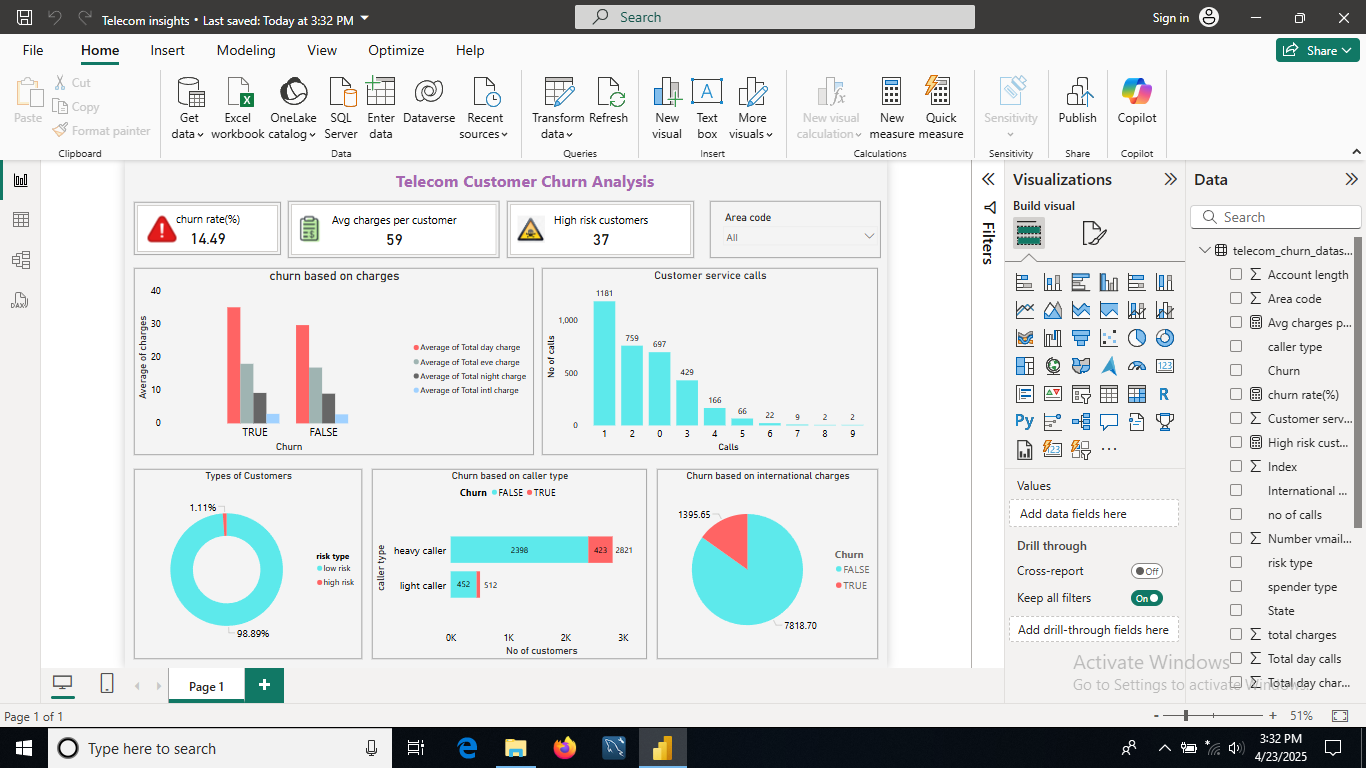

Layout of this report page (visuals, bound fields, positions):
{"tool":"powerbi","page":{"name":"Page 1","canvas":[1500,1000],"ordinal":0},"visuals":[{"type":"clusteredColumnChart","title":"churn based on charges","fields":{"Category":["telecom_churn_dataset.Churn"],"Y":["Avg(telecom_churn_dataset.Total day charge)","Avg(telecom_churn_dataset.Total eve charge)","Avg(telecom_churn_dataset.Total night charge)","Avg(telecom_churn_dataset.Total intl charge)"]},"box":[17.7,212.6,787.4,368.1],"z":0},{"type":"barChart","title":"Churn based on caller type","fields":{"Series":["telecom_churn_dataset.Churn"],"Category":["telecom_churn_dataset.caller type"],"Y":["CountNonNull(telecom_churn_dataset.caller type)"]},"box":[486.2,608.3,541.3,374],"z":1000},{"type":"donutChart","title":"Types of Customers","fields":{"Category":["telecom_churn_dataset.risk type"],"Y":["CountNonNull(telecom_churn_dataset.caller type)"]},"box":[17.7,608.3,448.8,374],"z":2000},{"type":"pieChart","title":"Churn based on international charges","fields":{"Category":["telecom_churn_dataset.Churn"],"Y":["Sum(telecom_churn_dataset.Total intl charge)"]},"box":[1047.2,608.3,435,374],"z":3000},{"type":"clusteredColumnChart","title":"Customer service calls","fields":{"Category":["telecom_churn_dataset.Customer service calls"],"Y":["CountNonNull(telecom_churn_dataset.Total day charge)"]},"box":[820.9,212.6,661.4,368.1],"z":4000},{"type":"slicer","fields":{"Values":["telecom_churn_dataset.Area code"]},"box":[1152,80,336,112],"z":5000},{"type":"cardVisual","fields":{"Data":["telecom_churn_dataset.churn rate(%)"]},"box":[17.7,82.7,289.4,104.3],"z":6000},{"type":"cardVisual","fields":{"Data":["telecom_churn_dataset.avg charges"]},"box":[320,80,416,112],"z":7000},{"type":"cardVisual","fields":{"Data":["telecom_churn_dataset.high risk customers"]},"box":[752,80,368,112],"z":8000},{"type":"textbox","box":[466.5,13.8,641.7,55.1],"z":9000},{"type":"image","box":[39.4,102.4,66.9,66.9],"z":9001},{"type":"image","box":[768,96,64,80],"z":9002},{"type":"image","box":[293.3,102.4,141.7,66.9],"z":9003}]}

Visuals, with their boxes on the page's 1500x1000 design canvas (x1, y1, x2, y2). These are canvas units, not pixel positions in the 1366x768 screenshot, which may show the page scaled, cropped or inside an application window:
"churn based on charges" clusteredColumnChart: bbox(18, 213, 805, 581)
"Churn based on caller type" barChart: bbox(486, 608, 1028, 982)
"Types of Customers" donutChart: bbox(18, 608, 466, 982)
"Churn based on international charges" pieChart: bbox(1047, 608, 1482, 982)
"Customer service calls" clusteredColumnChart: bbox(821, 213, 1482, 581)
slicer - telecom_churn_dataset.Area code: bbox(1152, 80, 1488, 192)
cardVisual - telecom_churn_dataset.churn rate(%): bbox(18, 83, 307, 187)
cardVisual - telecom_churn_dataset.avg charges: bbox(320, 80, 736, 192)
cardVisual - telecom_churn_dataset.high risk customers: bbox(752, 80, 1120, 192)
textbox: bbox(466, 14, 1108, 69)
image: bbox(39, 102, 106, 169)
image: bbox(768, 96, 832, 176)
image: bbox(293, 102, 435, 169)
